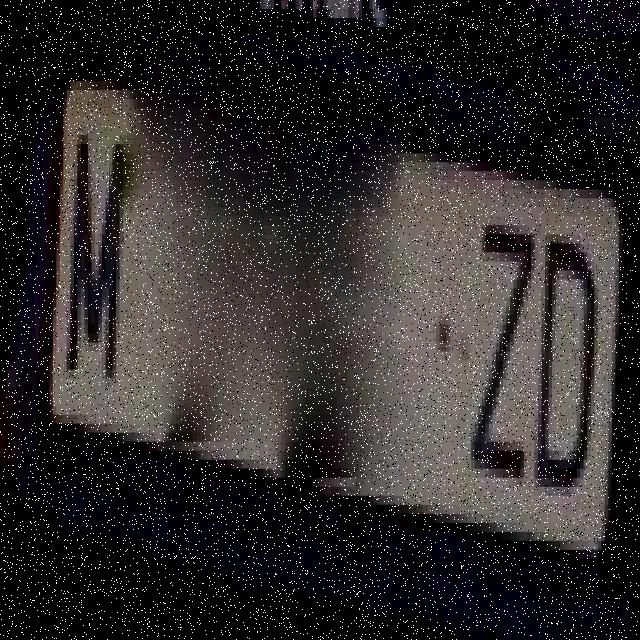licenseplate: (49, 54, 617, 566)
